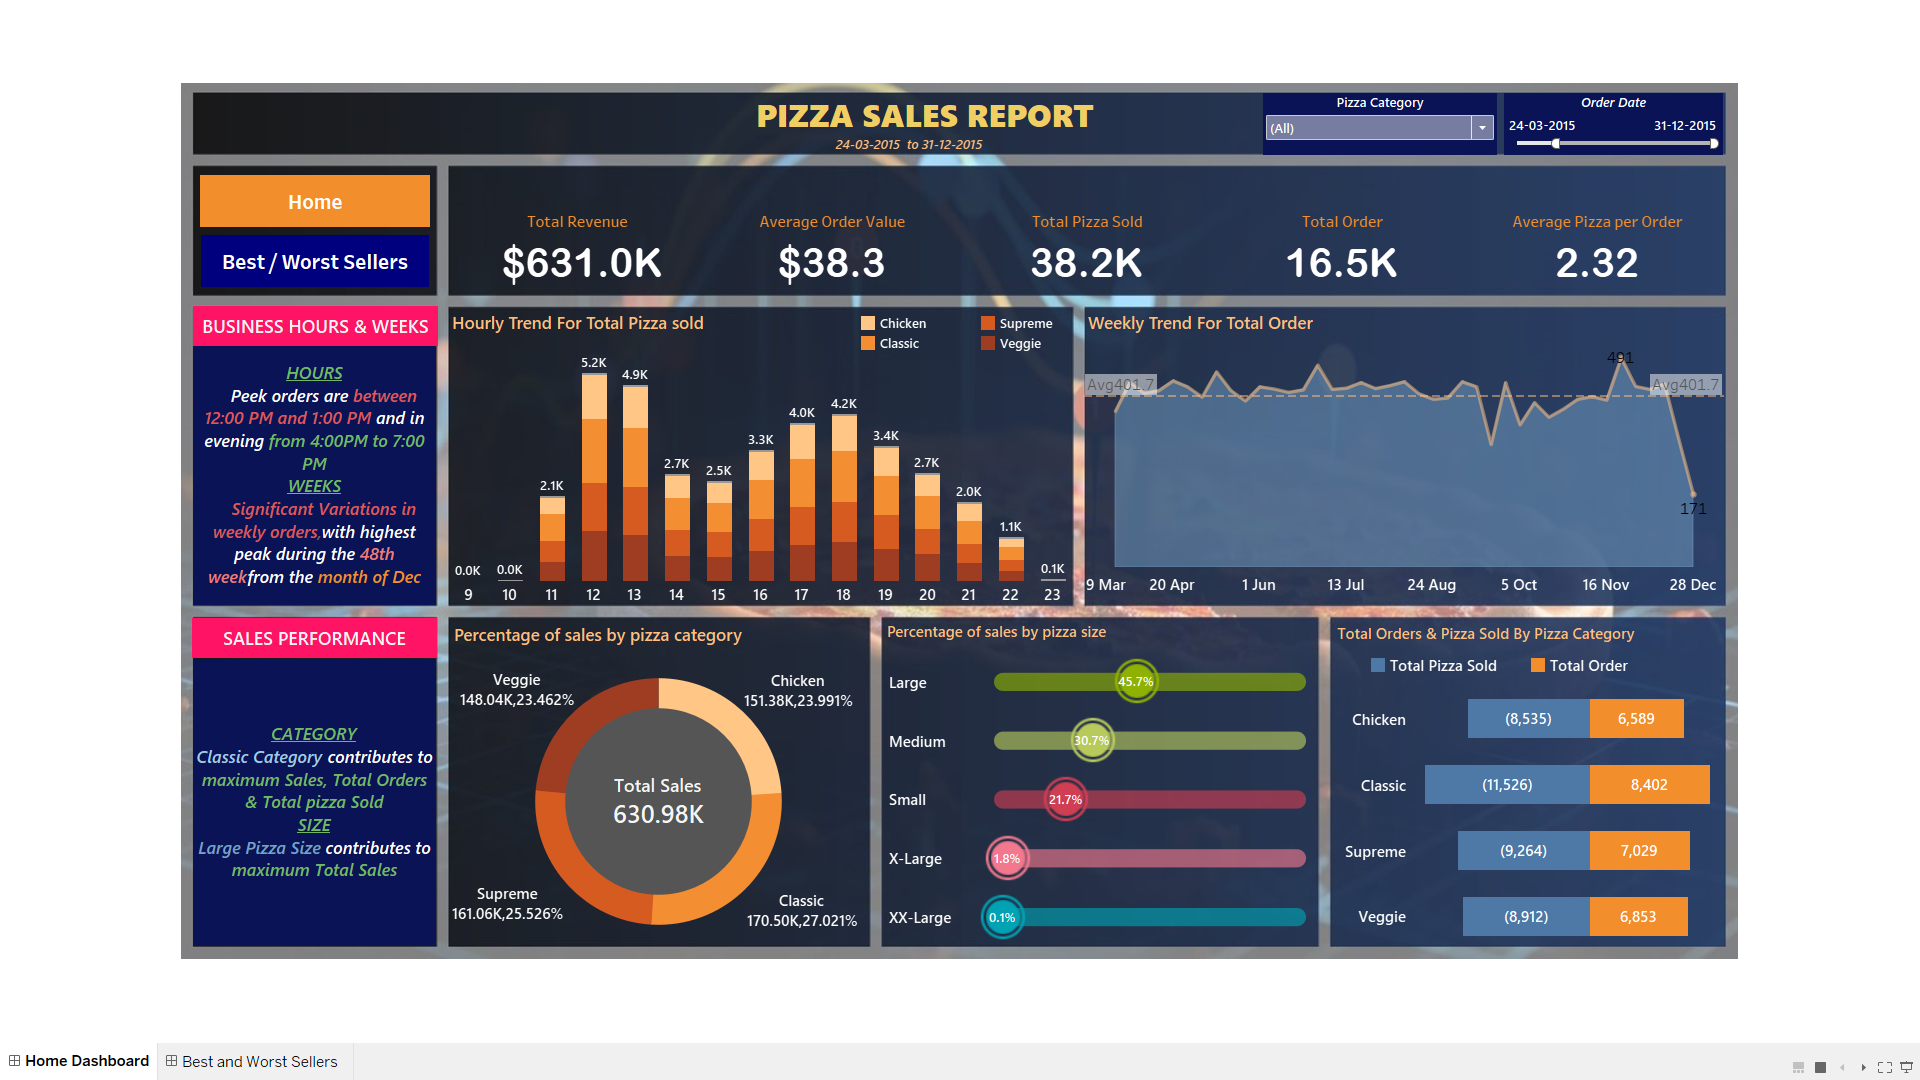

This screenshot's page, from the dashboard's own definition file:
{"tool":"tableau","page":{"name":"Home Dashboard","canvas":[1600,900],"ordinal":1},"visuals":[{"type":"image","param":"D:/Tableau/image for dash/Pizza Tableau 1.jpg","box":[8,8,1584,884]},{"type":"text","box":[574,21,382,44]},{"type":"filter","title":"Hourly Trend For Total Pizza sold","param":"[federated.1s19ngb170yqy91g77sqf0zpxc76].[none:pizza_category:nk]","box":[1103,22,234,62]},{"type":"filter","title":"Hourly Trend For Total Pizza sold","param":"[federated.1s19ngb170yqy91g77sqf0zpxc76].[none:order_date:qk]","box":[1344,22,219,62]},{"type":"image","param":"D:/Tableau/image for dash/Pizza Sales Images-20250130T171529Z-001/Pizza Sales Im","box":[517,26,69,51]},{"type":"worksheet","title":"Date Range","mark":"Automatic","box":[574,64,351,18]},{"type":"image","param":"D:/Tableau/image for dash/Pizza Sales Images-20250130T171529Z-001/Pizza Sales Im","box":[629,95,84,49]},{"type":"image","param":"D:/Tableau/image for dash/Pizza Sales Images-20250130T171529Z-001/Pizza Sales Im","box":[385,96,64,45]},{"type":"image","param":"D:/Tableau/image for dash/Pizza Sales Images-20250130T171529Z-001/Pizza Sales Im","box":[1407,96,65,40]},{"type":"image","param":"D:/Tableau/image for dash/Pizza Sales Images-20250130T171529Z-001/Pizza Sales Im","box":[1137,98,86,38]},{"type":"image","param":"D:/Tableau/image for dash/Pizza Sales Images-20250130T171529Z-001/Pizza Sales Im","box":[877,100,99,38]},{"type":"dashboard-object","box":[40,104,230,52]},{"type":"worksheet","title":"KPI Cards","mark":"Automatic","box":[290,140,1275,85]},{"type":"dashboard-object","box":[41,164,228,52]},{"type":"text","box":[33,235,245,40]},{"type":"worksheet","title":"Hourly Trend For Total Pizza sold","mark":"Bar","rows":["Calculation_130322956001644547","Calculation_130322956001644547"],"cols":["order_time"],"box":[288,236,626,298]},{"type":"worksheet","title":"Weekly Trend For Total Order","mark":"Area","rows":["Calculation_130322956001345538","Calculation_130322956001345538"],"cols":["order_date"],"box":[924,236,640,298]},{"type":"legend","title":"Hourly Trend For Total Pizza sold","param":"[federated.1s19ngb170yqy91g77sqf0zpxc76].[none:pizza_category:nk]","box":[698,242,258,52]},{"type":"text","box":[33,275,243,259]},{"type":"worksheet","title":"Percentage of sales by pizza size","mark":"Line","rows":["pizza_size"],"box":[723,546,438,329]},{"type":"text","box":[32,547,245,40]},{"type":"text","box":[1174,547,304,30]},{"type":"worksheet","title":"Percentage of sales by pizza category","mark":"Pie","rows":["Calculation_919578790996934658","Calculation_919578790997082116"],"box":[290,548,417,327]},{"type":"legend","title":"Total Order & Pizza Sold by Pizza Category","param":"[federated.1s19ngb170yqy91g77sqf0zpxc76].[:Measure Names]","box":[1208,584,349,31]},{"type":"text","box":[33,588,243,287]},{"type":"worksheet","title":"Total Order & Pizza Sold by Pizza Category","mark":"Automatic","rows":["pizza_category"],"box":[1171,615,393,263]}]}

Visuals, with their boxes on the page's 1600x900 design canvas (x1, y1, x2, y2). These are canvas units, not pixel positions in the 1920x1080 screenshot, which may show the page scaled, cropped or inside an application window:
image: (8, 8, 1592, 892)
text: (574, 21, 956, 65)
"Hourly Trend For Total Pizza sold" filter: (1103, 22, 1337, 84)
"Hourly Trend For Total Pizza sold" filter: (1344, 22, 1563, 84)
image: (517, 26, 586, 77)
"Date Range" worksheet: (574, 64, 925, 82)
image: (629, 95, 713, 144)
image: (385, 96, 449, 141)
image: (1407, 96, 1472, 136)
image: (1137, 98, 1223, 136)
image: (877, 100, 976, 138)
dashboard-object: (40, 104, 270, 156)
"KPI Cards" worksheet: (290, 140, 1565, 225)
dashboard-object: (41, 164, 269, 216)
text: (33, 235, 278, 275)
"Hourly Trend For Total Pizza sold" worksheet (Bar marks): (288, 236, 914, 534)
"Weekly Trend For Total Order" worksheet (Area marks): (924, 236, 1564, 534)
"Hourly Trend For Total Pizza sold" legend: (698, 242, 956, 294)
text: (33, 275, 276, 534)
"Percentage of sales by pizza size" worksheet (Line marks): (723, 546, 1161, 875)
text: (32, 547, 277, 587)
text: (1174, 547, 1478, 577)
"Percentage of sales by pizza category" worksheet (Pie marks): (290, 548, 707, 875)
"Total Order & Pizza Sold by Pizza Category" legend: (1208, 584, 1557, 615)
text: (33, 588, 276, 875)
"Total Order & Pizza Sold by Pizza Category" worksheet: (1171, 615, 1564, 878)
